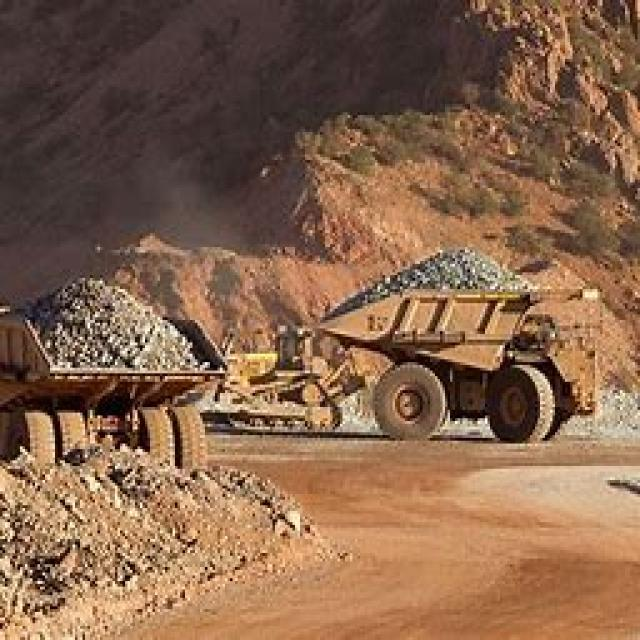dump_truck: (318, 228, 602, 447), (0, 258, 225, 483)
